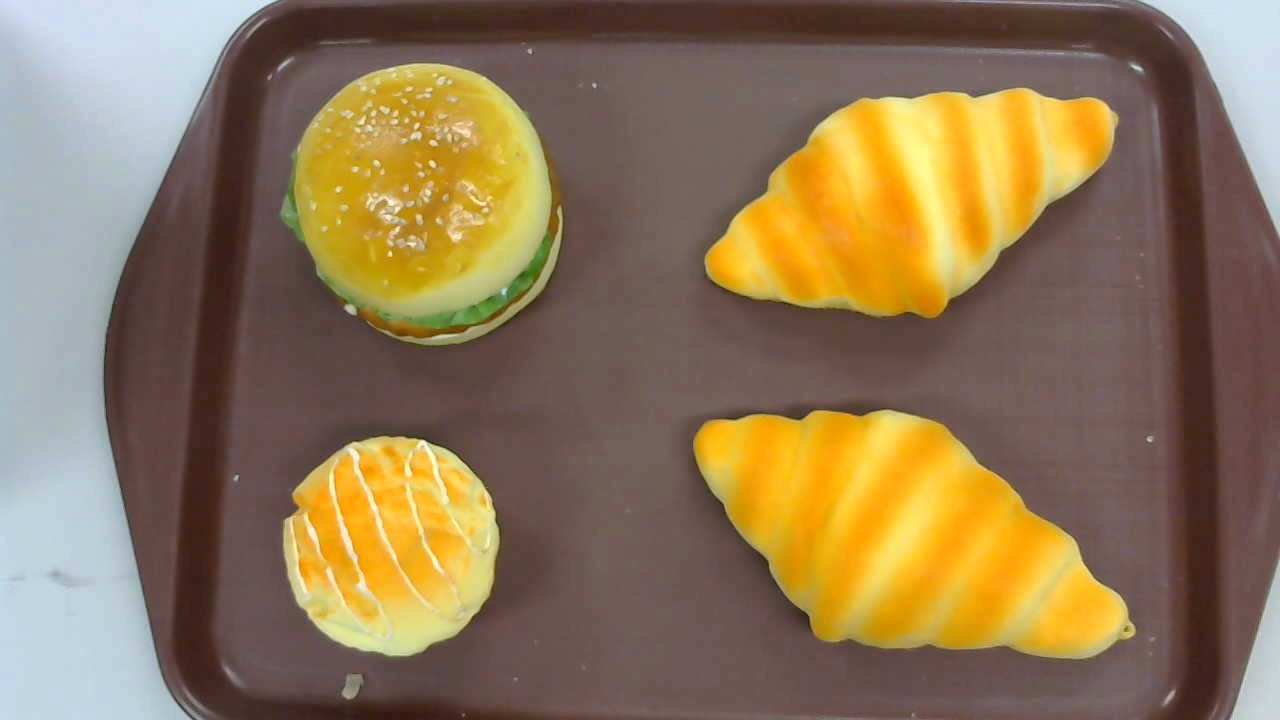croissant: (691, 409, 1137, 662), (704, 85, 1119, 321)
cupcake: (282, 437, 499, 657)
hamburger: (280, 64, 565, 347)
